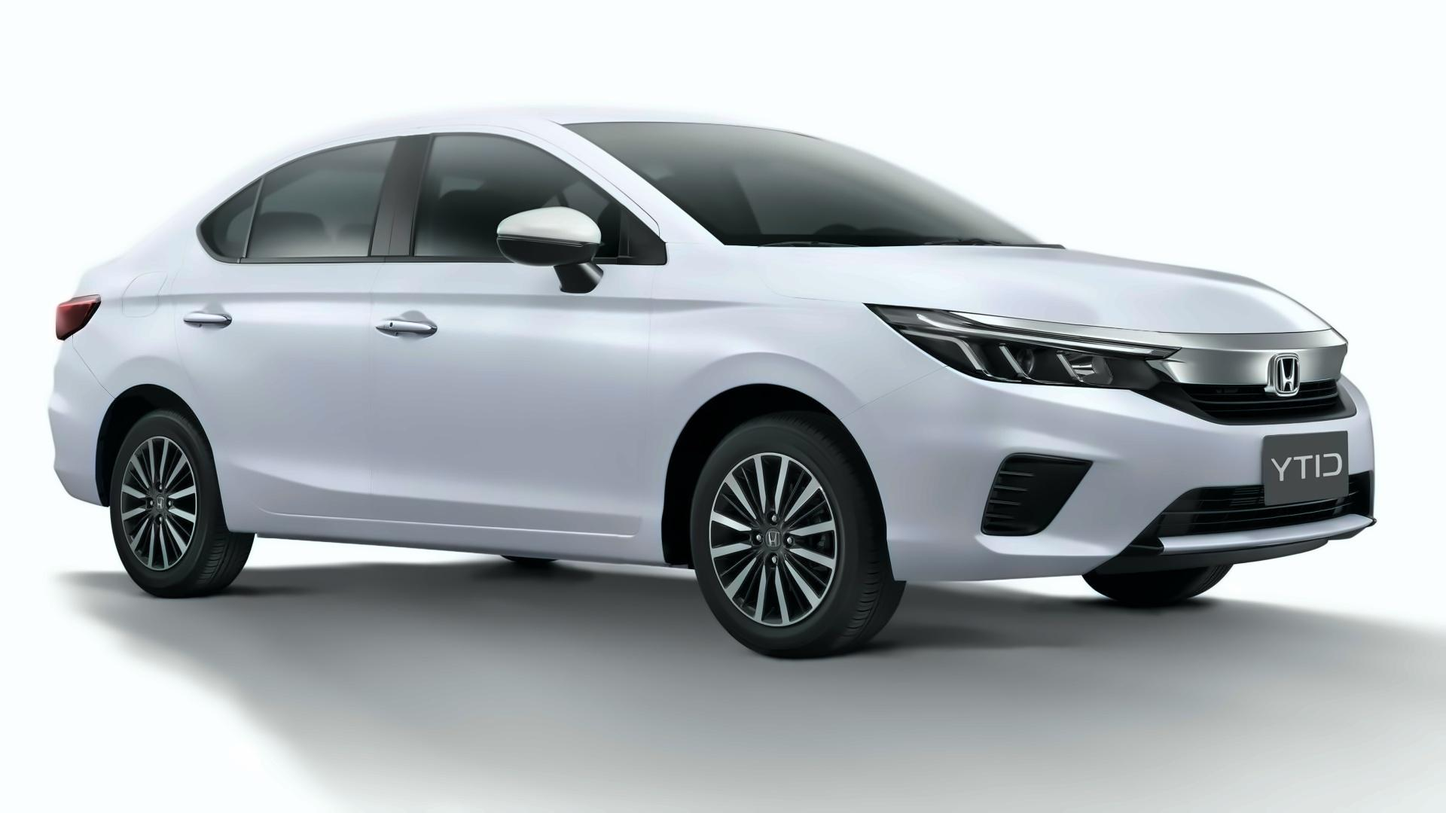Car hood: (731, 234, 1331, 339)
Driver-s door - -F-R-: (379, 111, 654, 540)
Fender - -F-R-: (652, 203, 945, 565)
Fender - -R-R-: (70, 260, 171, 429)
Front bumper: (871, 394, 1397, 601)
Headlight - -R-: (856, 296, 1123, 389)
Passenger-s door - -R-R-: (160, 130, 378, 525)
Rear bumper: (45, 365, 116, 523)
Rear light - -R-: (32, 286, 108, 342)
Side bumper - -R-: (213, 499, 690, 580)
Side mirror - -R-: (473, 192, 616, 304)
